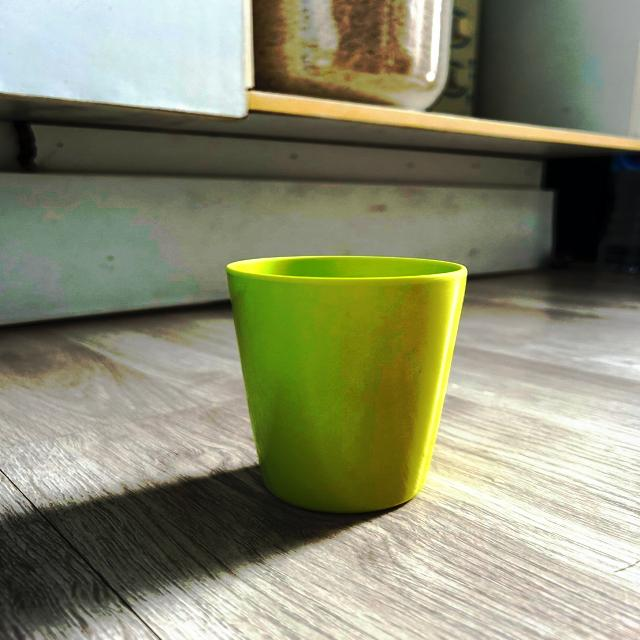WaterGlass: (228, 257, 467, 513)
